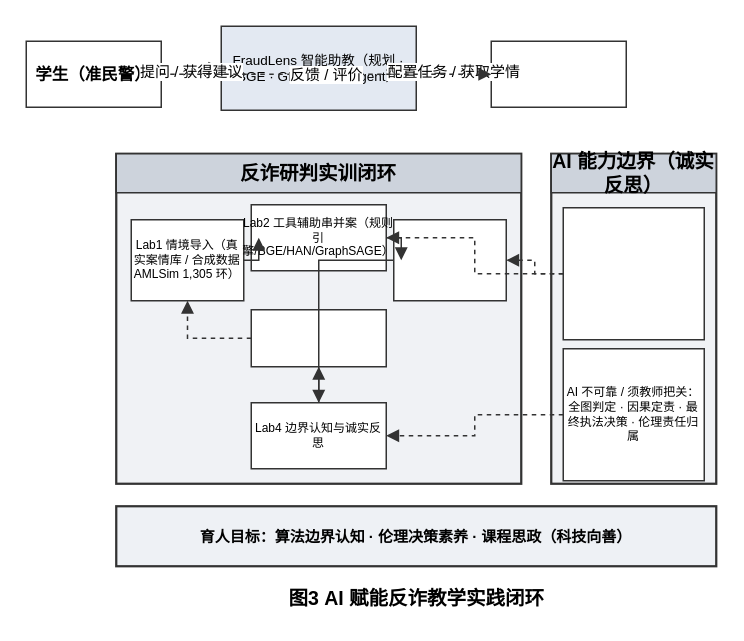
The diagram is 744 pixels wide and 641 high, and some of its shapes have lost their labels. The box of each missing label's shape, as (x1, y1, x2, y2) in pixels:
AI 可辅助：嵌入检索 · 聚类归集 · 生成候选 · 规则对比 · 过程性评价: (562, 206, 704, 340)
Lab3 冻卡决策与伦理权衡: (392, 218, 506, 301)
教师: (490, 40, 626, 107)
评价回流（加权评价 + 思政/伦理映射）: (250, 308, 386, 367)
